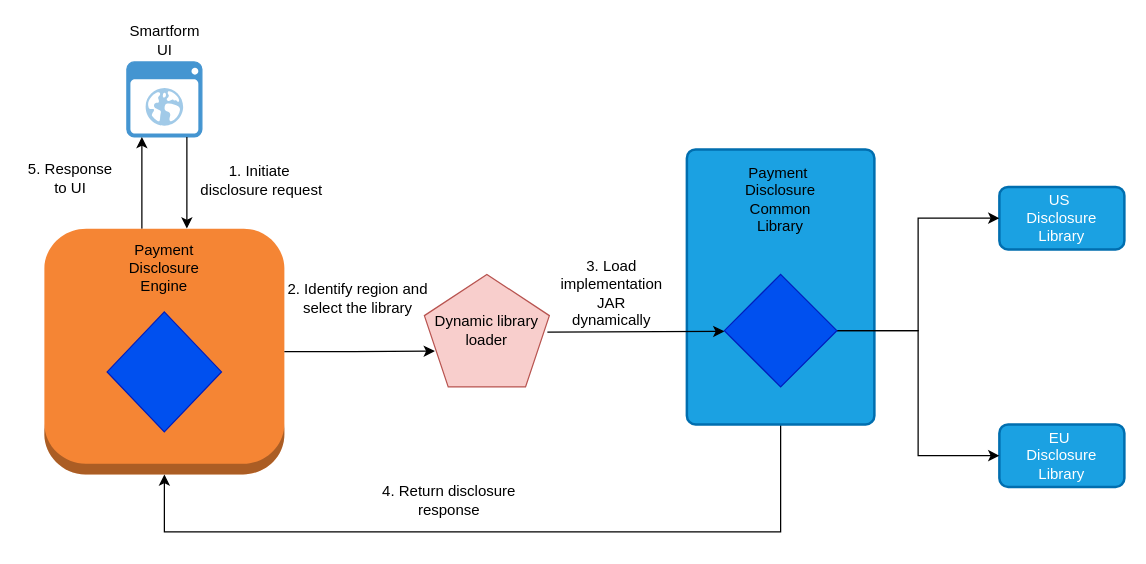
The diagram is 1146 pixels wide and 564 high, and some of its shapes have lost their labels. Each missing label, with the box of its shape:
invoke region specific implementation: (723, 273, 837, 387)
Transform request to canonical object: (106, 311, 222, 432)
